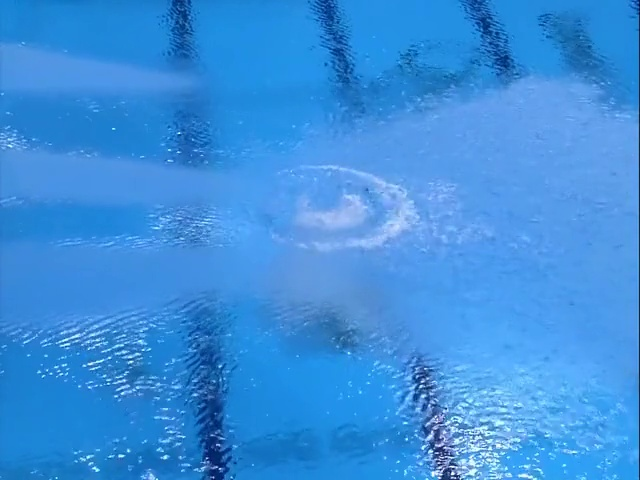splash: (297, 190, 371, 230)
